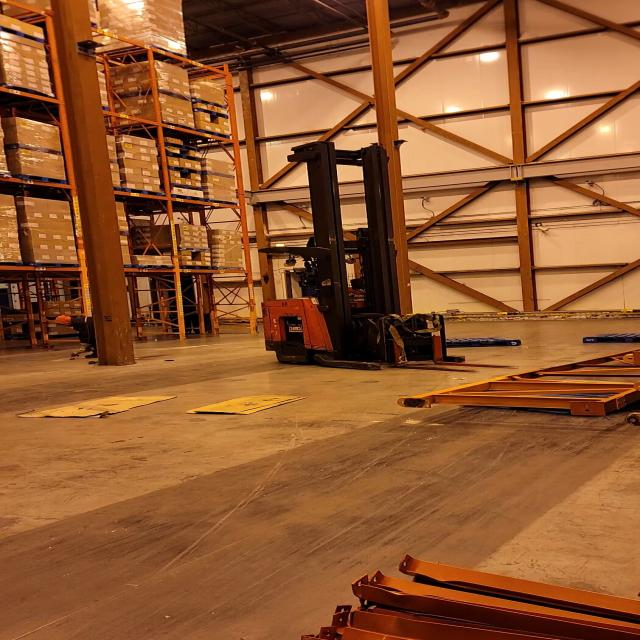forklift: (257, 149, 468, 373)
human: (45, 311, 112, 368)
objectofinterest: (393, 342, 640, 422), (8, 392, 187, 420), (177, 393, 311, 417), (428, 334, 524, 349), (576, 330, 640, 343)
